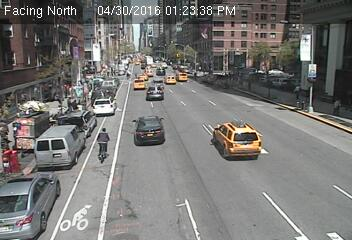neg: (84, 121, 122, 171)
